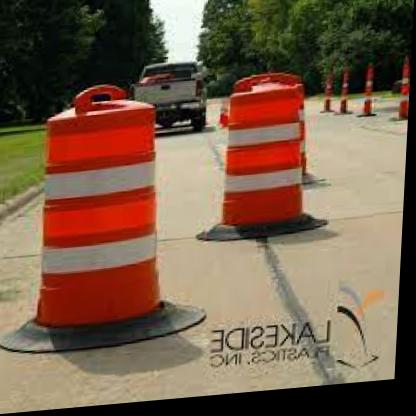obstacle: (34, 93, 166, 342), (223, 78, 314, 235)
